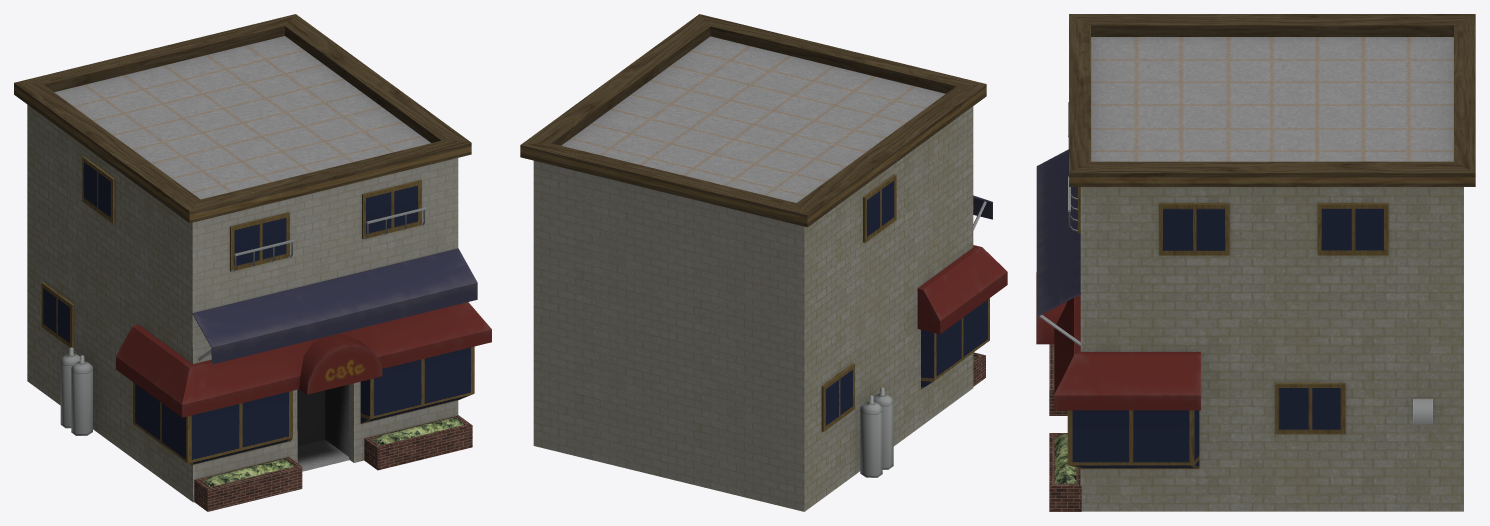
Rendered from sb_obj_ModernCity013_store_d.fbx.
3 renders of one model, left to right at view 1: azimuth 30°, elevation 25°; view 2: azimuth 150°, elevation 25°; view 3: azimuth 270°, elevation 25°, orthographic. The views are drawn at different scales.
Parts seen in each view (by area): view 1: sb_obj_ModernCity013_store_d; view 2: sb_obj_ModernCity013_store_d; view 3: sb_obj_ModernCity013_store_d.
Part boxes in pixels (x1,y1,x2,y2): sb_obj_ModernCity013_store_d: (14,14,491,511); sb_obj_ModernCity013_store_d: (520,14,1007,511); sb_obj_ModernCity013_store_d: (1036,14,1475,511).
Bounding box in the file's own units: 6.56 × 6.01 × 6.96.
